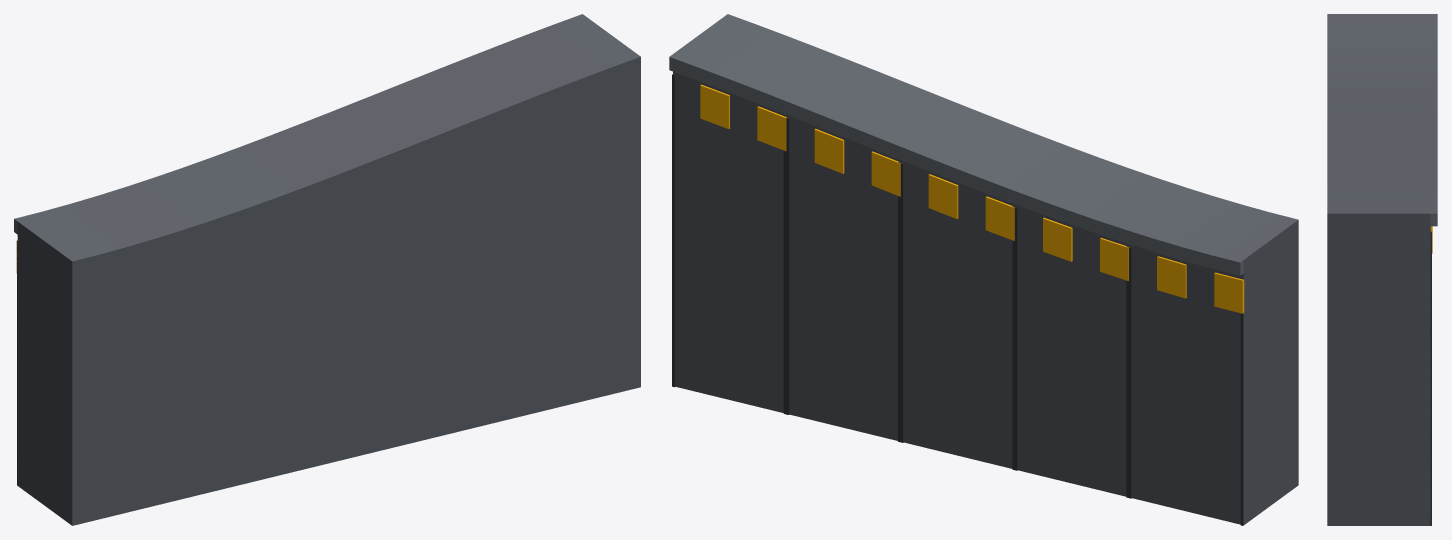
3 views of the same model, side by side, from view 1: azimuth 30°, elevation 25°; view 2: azimuth 150°, elevation 25°; view 3: azimuth 270°, elevation 25° (orthographic). The views are drawn at different scales.
Parts seen in each view (by area): view 1: d0w; view 2: d0w; view 3: d0w.
Part boxes in pixels (bbox=[...]): d0w: bbox=[14, 14, 640, 525]; d0w: bbox=[669, 14, 1298, 525]; d0w: bbox=[1327, 14, 1437, 525].
Bounding box in the file's own units: 9 × 5 × 1.6.
